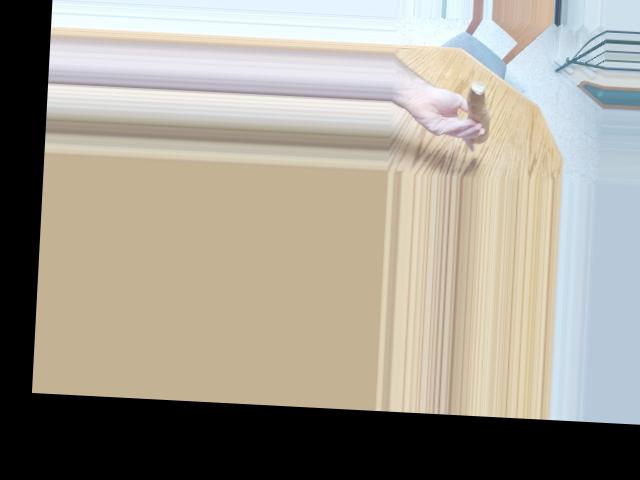sweet_potato: (458, 83, 494, 136)
